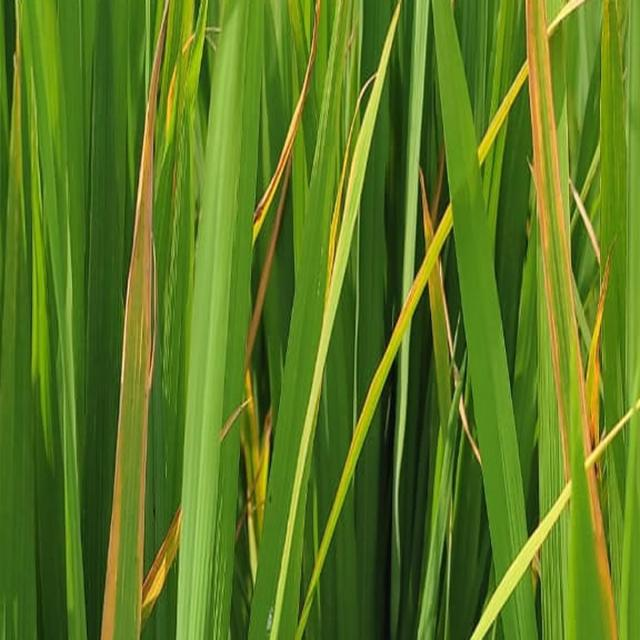blight: (121, 100, 178, 357), (568, 419, 620, 640)
